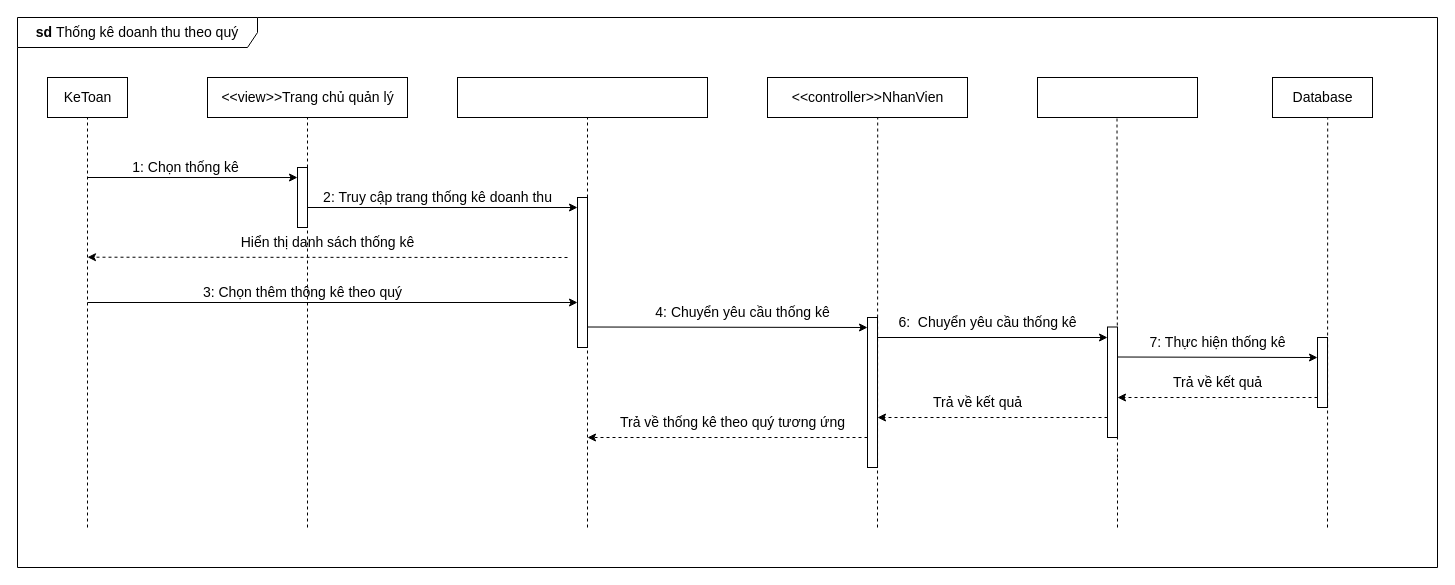
This 1455x585 diagram has some shape labels left out. The shapes that lost their labels are listed below. From the top down, each one's centre as x and y in pixels, then its label:
(582,97): <<view>>Trang thống kê doanh thu
(1117,97): <<DAO>>NhanVien
